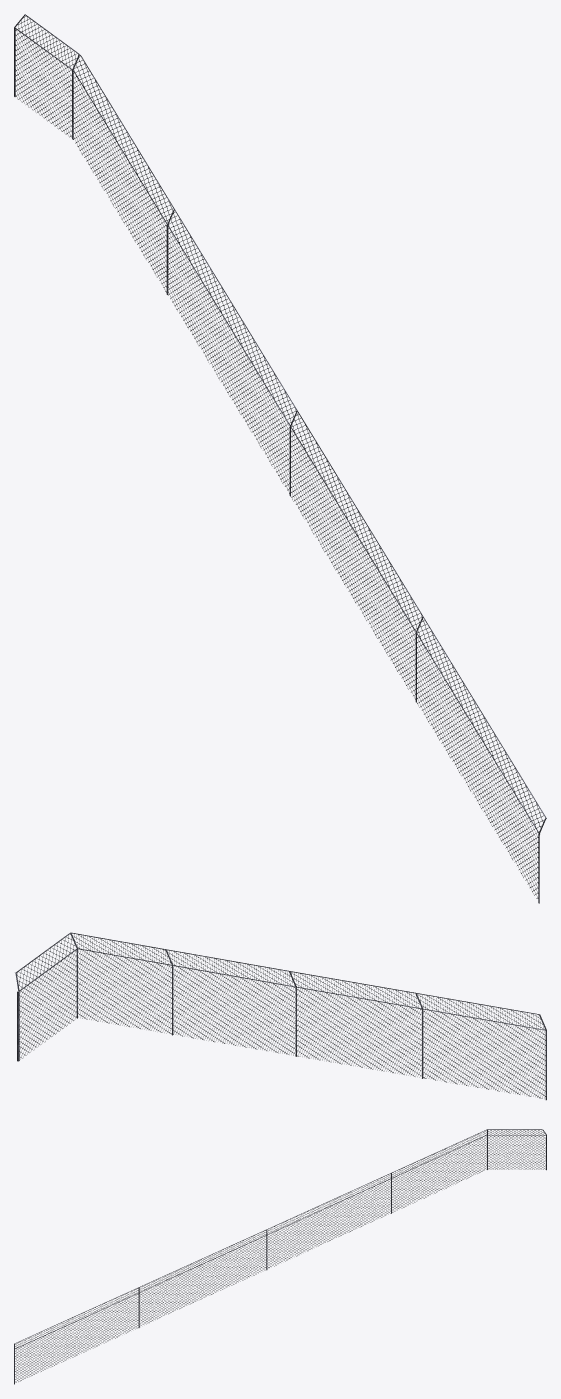
Rendered from M10_Z1_FootBridge03.glb.
3 views of the same model, one above another, from view 1: azimuth 30°, elevation 25°; view 2: azimuth 150°, elevation 25°; view 3: azimuth 270°, elevation 25° (orthographic). The views are drawn at different scales.
Visible parts, largest first — view 1: M10_Z1_FOOTBRIDGE03; view 2: M10_Z1_FOOTBRIDGE03; view 3: M10_Z1_FOOTBRIDGE03.
Boxes of the visible parts, x1,y1,x2,y2 form: M10_Z1_FOOTBRIDGE03: (14,14,546,903); M10_Z1_FOOTBRIDGE03: (15,932,546,1100); M10_Z1_FOOTBRIDGE03: (14,1129,546,1384).
Size of the model in its own units: 0.158 by 8.98 by 16.9.
Materials: 2 (2 with a texture image).
